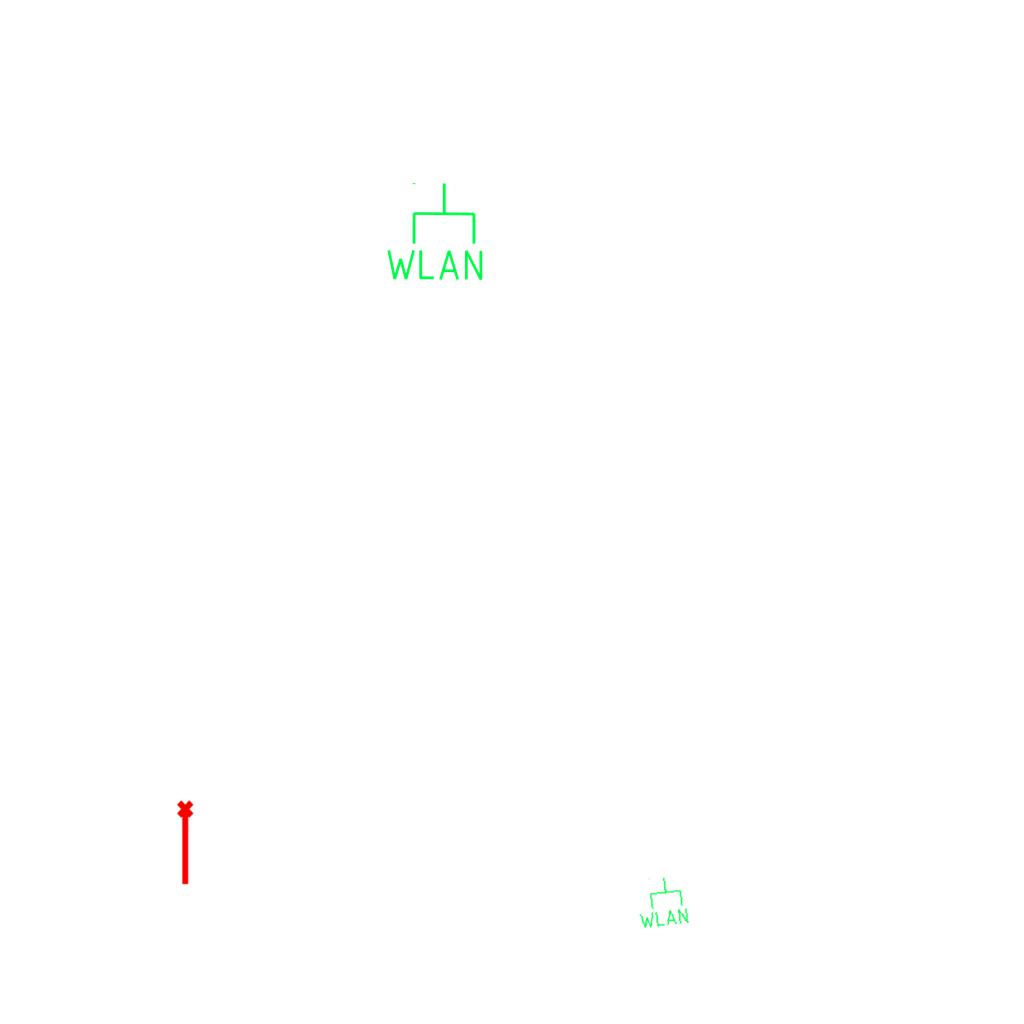ASR_Ansaugoeffnung: (175, 799, 198, 887)
WLAN: (382, 180, 487, 284), (633, 873, 691, 931)
